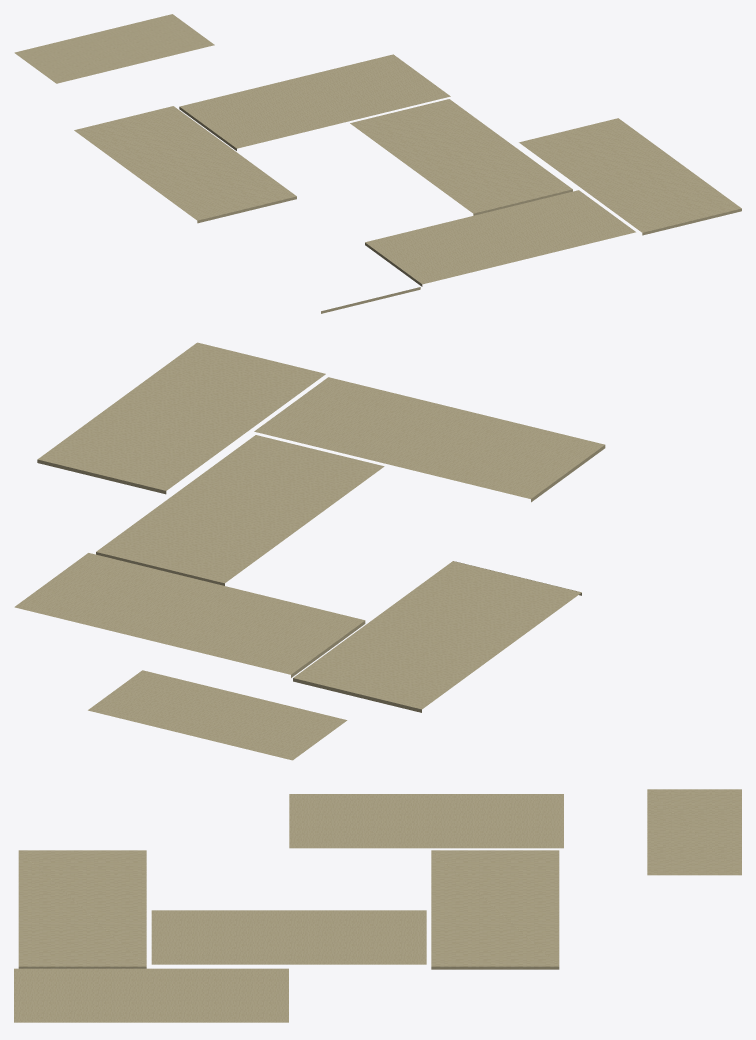
The model's file is kd_stage_135b75_4_37.glb.
3 views of the same model, one above another, from view 1: azimuth 30°, elevation 25°; view 2: azimuth 150°, elevation 25°; view 3: azimuth 270°, elevation 25° (orthographic). The views are drawn at different scales.
Visible parts, largest first — view 1: kd_stage_135b75_4_37; view 2: kd_stage_135b75_4_37; view 3: kd_stage_135b75_4_37.
Part boxes in pixels (bbox=[...]): kd_stage_135b75_4_37: bbox=[14, 14, 741, 313]; kd_stage_135b75_4_37: bbox=[14, 342, 605, 760]; kd_stage_135b75_4_37: bbox=[14, 789, 741, 1022].
Size of the model in its own units: 3.24 by 0.1245 by 4.37.
Materials: 1 (1 with a texture image).
